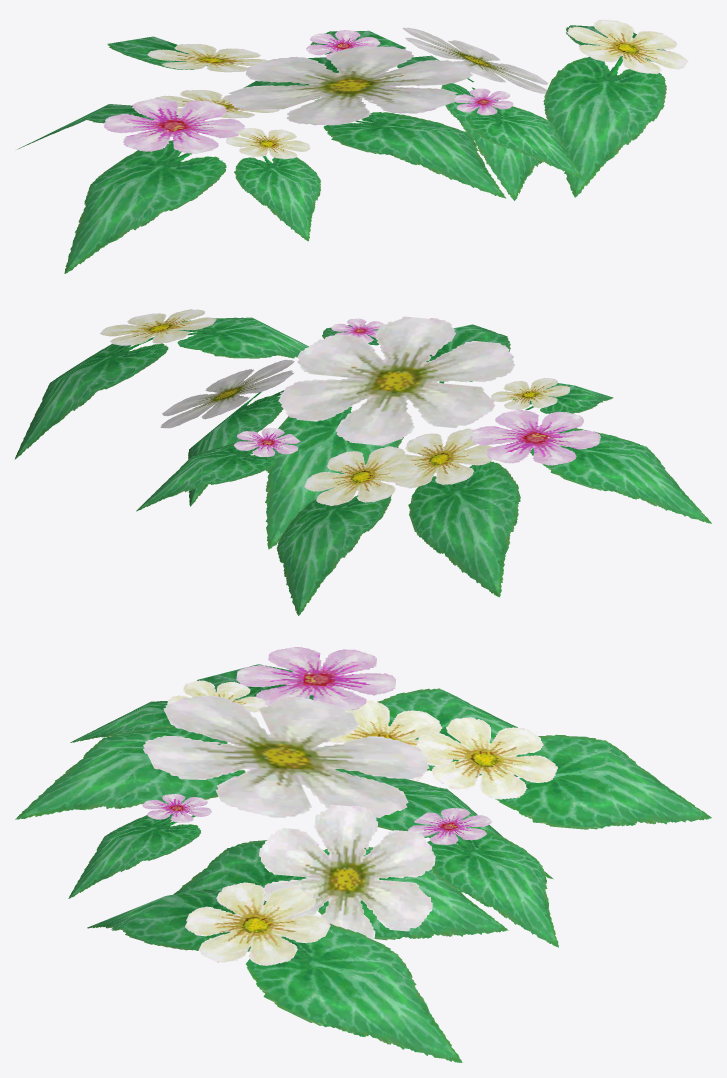
The model's file is nml-bd032.glb.
3 views of the same model, one above another, from view 1: azimuth 30°, elevation 25°; view 2: azimuth 150°, elevation 25°; view 3: azimuth 270°, elevation 25° (orthographic). The views are drawn at different scales.
Visible parts, largest first — view 1: geom_node_0; view 2: geom_node_0; view 3: geom_node_0.
Boxes of the visible parts, x1,y1,x2,y2 form: geom_node_0: (17, 18, 688, 273); geom_node_0: (14, 309, 711, 615); geom_node_0: (15, 647, 711, 1062).
Bounding box in the file's own units: 3.13 × 0.5788 × 2.5.
1 material, 1 textured.
